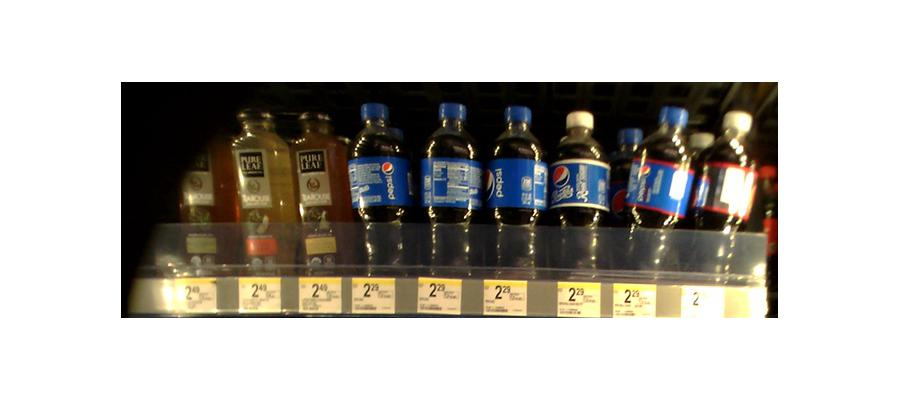bottle: (689, 111, 757, 283), (623, 98, 690, 271), (417, 102, 482, 274), (348, 98, 410, 272), (547, 110, 610, 278), (234, 105, 296, 273), (486, 105, 543, 278), (293, 113, 347, 274), (181, 111, 233, 274)
